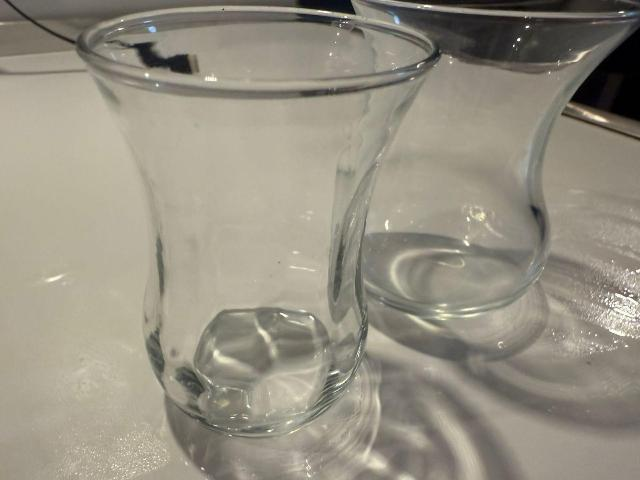Cam: (74, 12, 443, 442), (349, 0, 639, 323)
